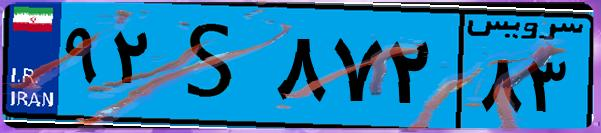2: (385, 28, 445, 110), (110, 28, 158, 98)
3: (525, 38, 570, 115)
7: (330, 28, 385, 110)
8: (270, 28, 330, 110), (475, 38, 525, 113)
9: (57, 26, 110, 100)
S: (158, 12, 270, 120)
